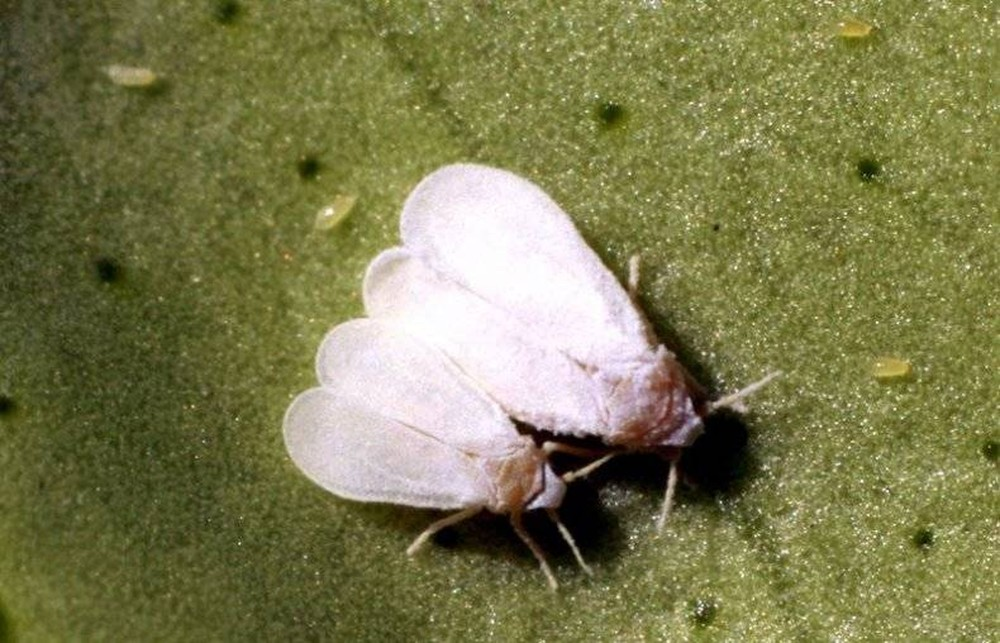Mosca Blanca: (347, 159, 769, 501), (282, 316, 616, 596)
